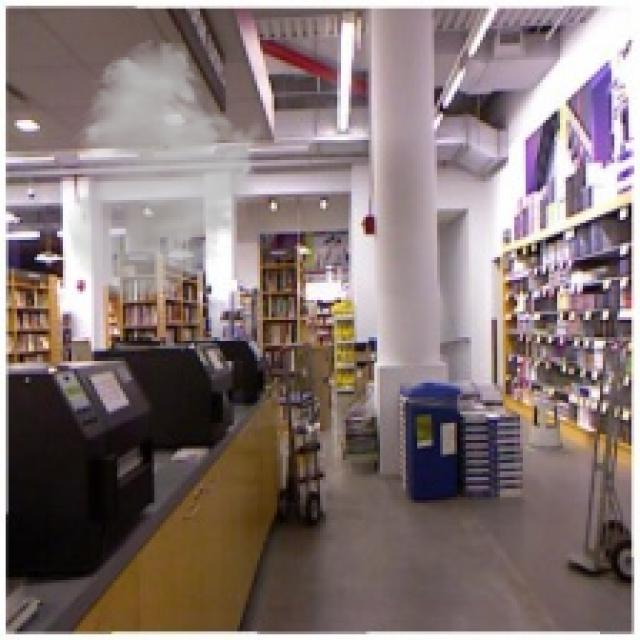smoke: (66, 37, 266, 309)
